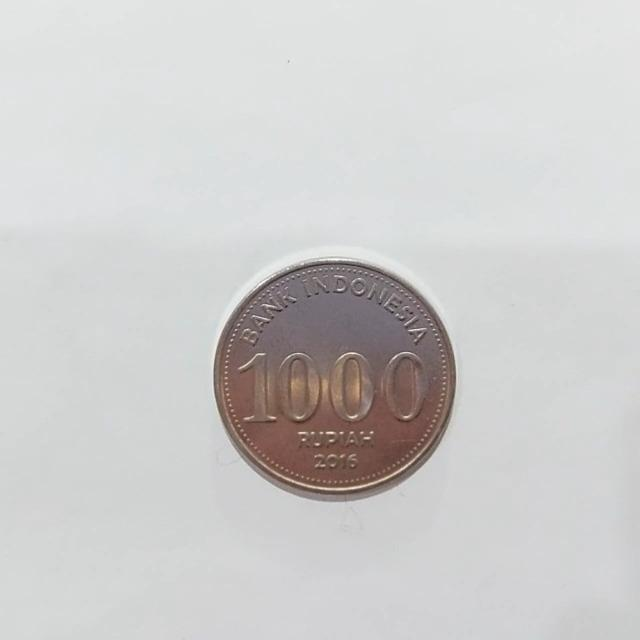Rp100: (211, 247, 457, 502)
